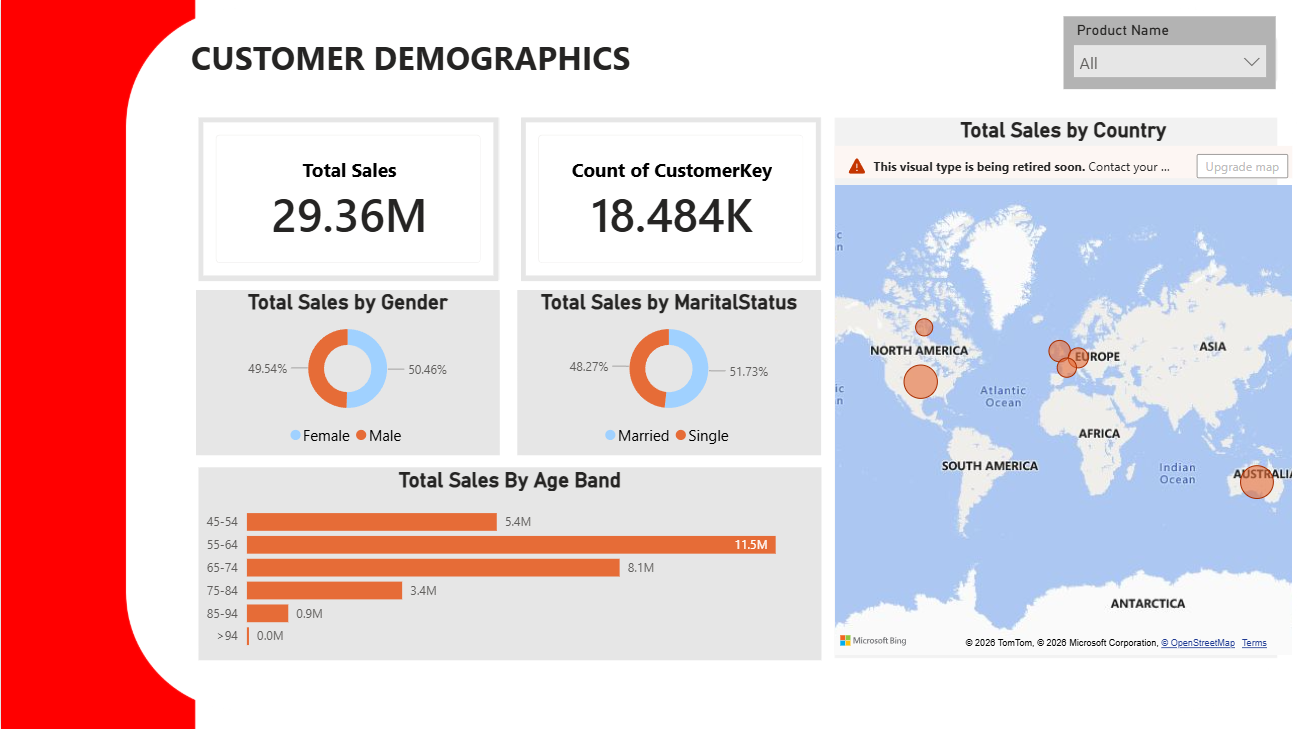

Layout of this report page (visuals, bound fields, positions):
{"tool":"powerbi","page":{"name":"Customer Demographics","canvas":[1280,720],"ordinal":0},"visuals":[{"type":"cardVisual","fields":{"Data":["Sum(FactInternetSales.SalesAmount)"]},"box":[195.1,116,296.3,161.7],"z":0},{"type":"cardVisual","fields":{"Data":["Count(DimCustomer.CustomerKey)"]},"box":[513.6,116,296.3,161.7],"z":1000},{"type":"donutChart","fields":{"Y":["Sum(FactInternetSales.SalesAmount)"],"Category":["DimCustomer.Gender"]},"box":[192.6,286.4,300,163],"z":2000},{"type":"donutChart","fields":{"Y":["Sum(FactInternetSales.SalesAmount)"],"Category":["DimCustomer.MaritalStatus"]},"box":[509.9,286.4,300,163],"z":3000},{"type":"barChart","title":"Total Sales By Age Band","fields":{"Category":["Age Sort.Age Band"],"Y":["Sum(FactInternetSales.SalesAmount)"]},"box":[195.1,461.7,614.8,190.1],"z":4000},{"type":"map","fields":{"Category":["DimGeography.Country"],"Size":["Sum(FactInternetSales.SalesAmount)"]},"box":[818.5,116,461.7,535.8],"z":5000},{"type":"textbox","box":[182.7,29.6,1076.5,58],"z":6000},{"type":"slicer","fields":{"Values":["DimProduct.Product Name"]},"box":[1049.4,16,209.9,71.6],"z":7000}]}

Visuals, with their boxes in screenshot pixels (x1, y1, x2, y2), scaled from the page's 1280x720 canvas onto the 1297x729 screenshot:
cardVisual - Sum(FactInternetSales.SalesAmount): [198, 117, 498, 281]
cardVisual - Count(DimCustomer.CustomerKey): [520, 117, 821, 281]
donutChart - Sum(FactInternetSales.SalesAmount) x DimCustomer.Gender: [195, 290, 499, 455]
donutChart - Sum(FactInternetSales.SalesAmount) x DimCustomer.MaritalStatus: [517, 290, 821, 455]
"Total Sales By Age Band" barChart: [198, 467, 821, 660]
map - DimGeography.Country x Sum(FactInternetSales.SalesAmount): [829, 117, 1296, 660]
textbox: [185, 30, 1276, 89]
slicer - DimProduct.Product Name: [1063, 16, 1276, 89]
